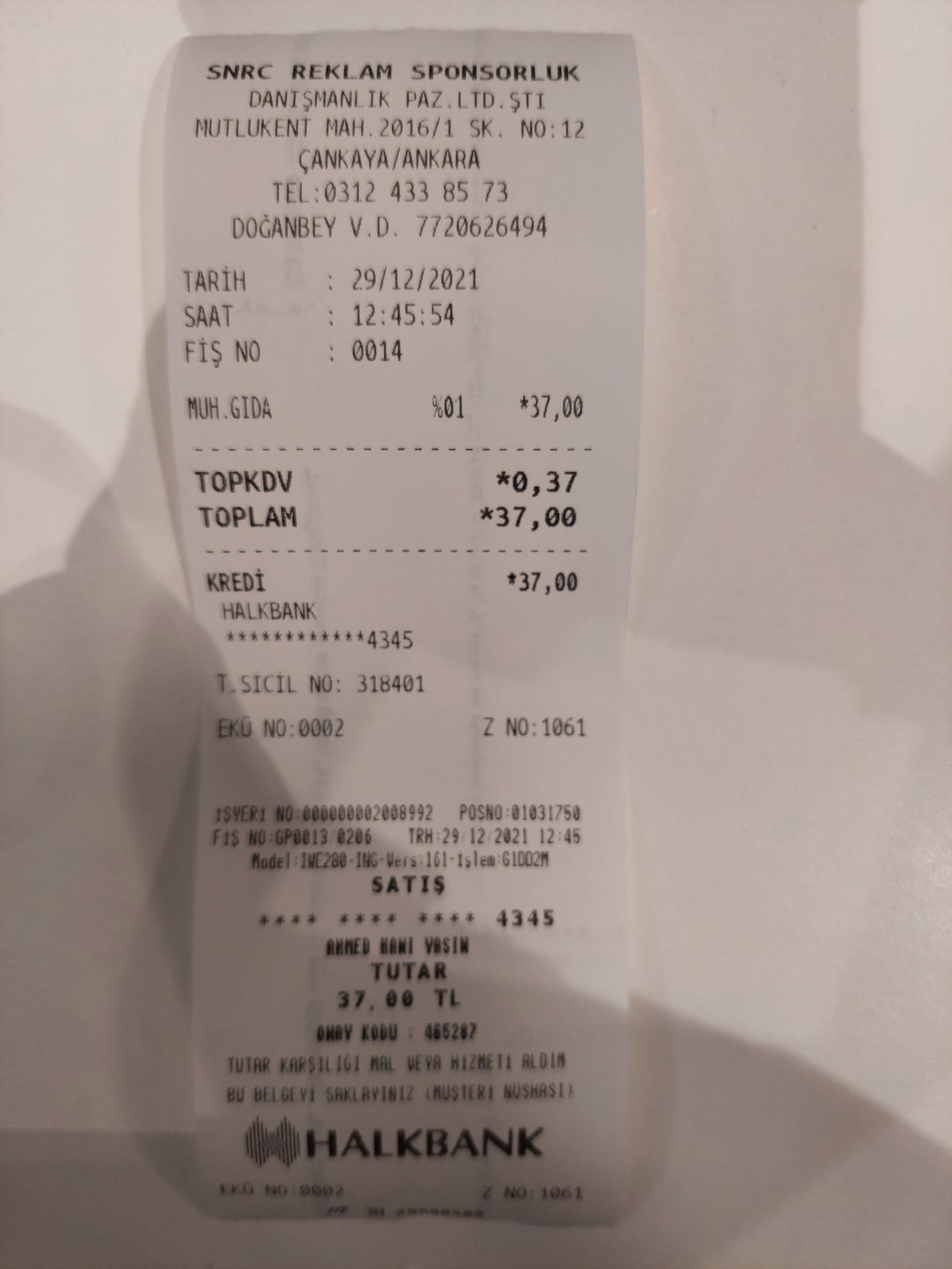date: (490, 501, 589, 539)
price: (344, 258, 486, 297)
workplace: (186, 47, 603, 178)
